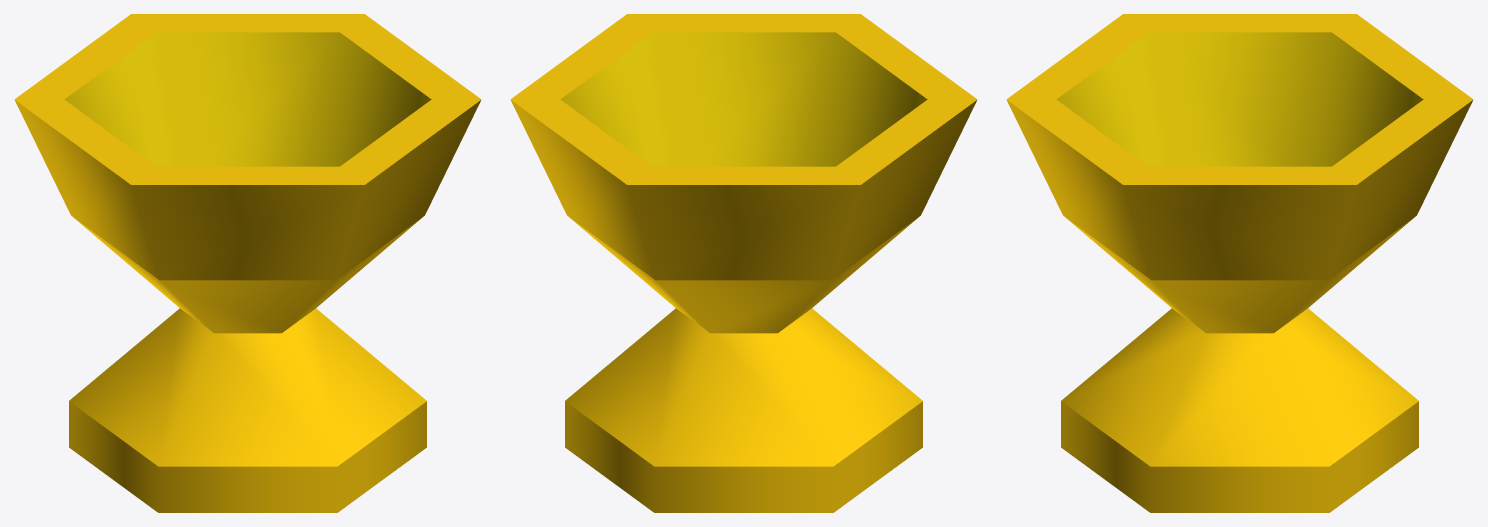
The model's file is Cup.glb.
3 renders of one model, left to right at view 1: azimuth 30°, elevation 25°; view 2: azimuth 150°, elevation 25°; view 3: azimuth 270°, elevation 25°, orthographic.
Parts seen in each view (by area): view 1: Cup; view 2: Cup; view 3: Cup.
Part boxes in pixels (bbox=[...]): Cup: bbox=[14, 14, 481, 512]; Cup: bbox=[510, 14, 977, 512]; Cup: bbox=[1006, 14, 1473, 512].
Bounding box in the file's own units: 0.1581 × 0.15 × 0.1826.
